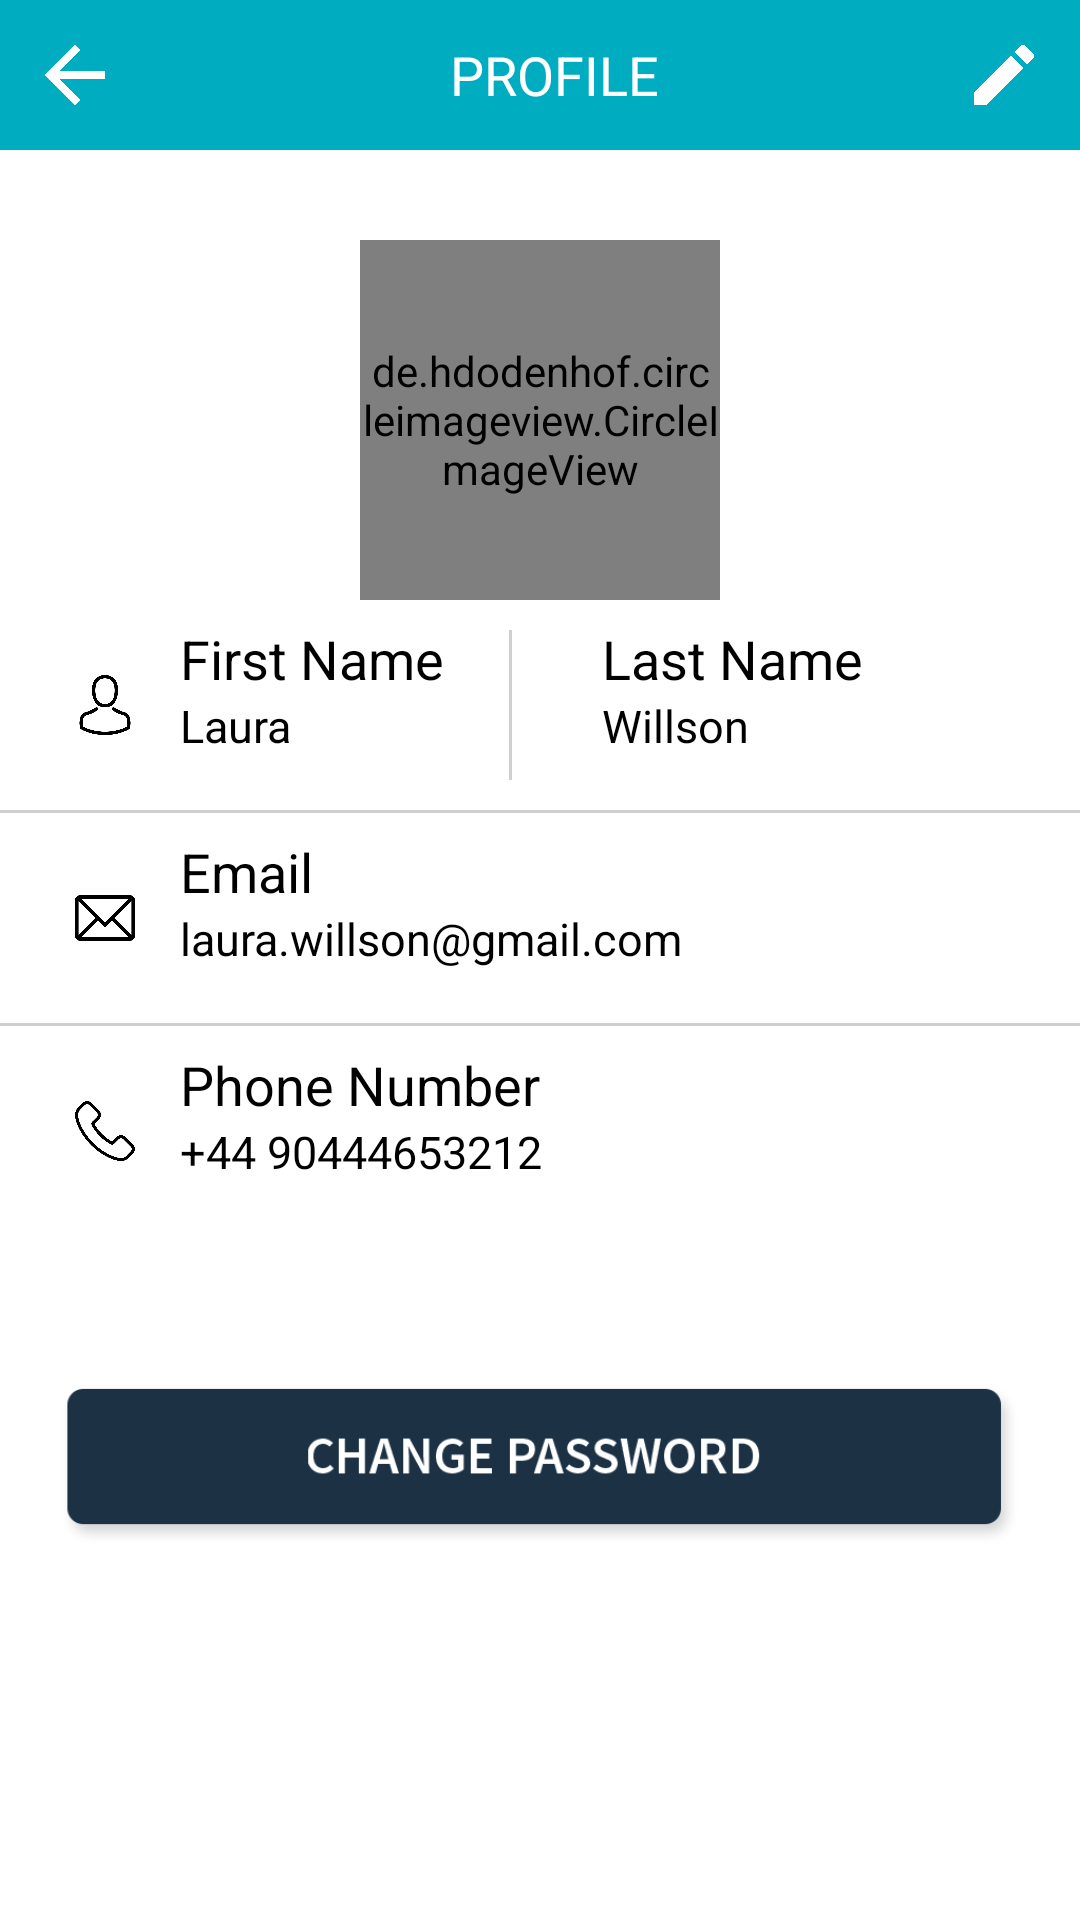

Icons on this 1080px x 1920px Android screen, each with its box as (x1, y1, x2, y2):
edit: (974, 45, 1034, 105)
emailblack: (75, 895, 135, 941)
leftarrow: (45, 45, 105, 105)
telephone: (75, 1101, 135, 1161)
userblack: (79, 675, 131, 735)
